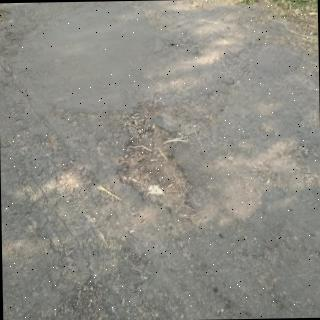pothole: (49, 89, 228, 219)
